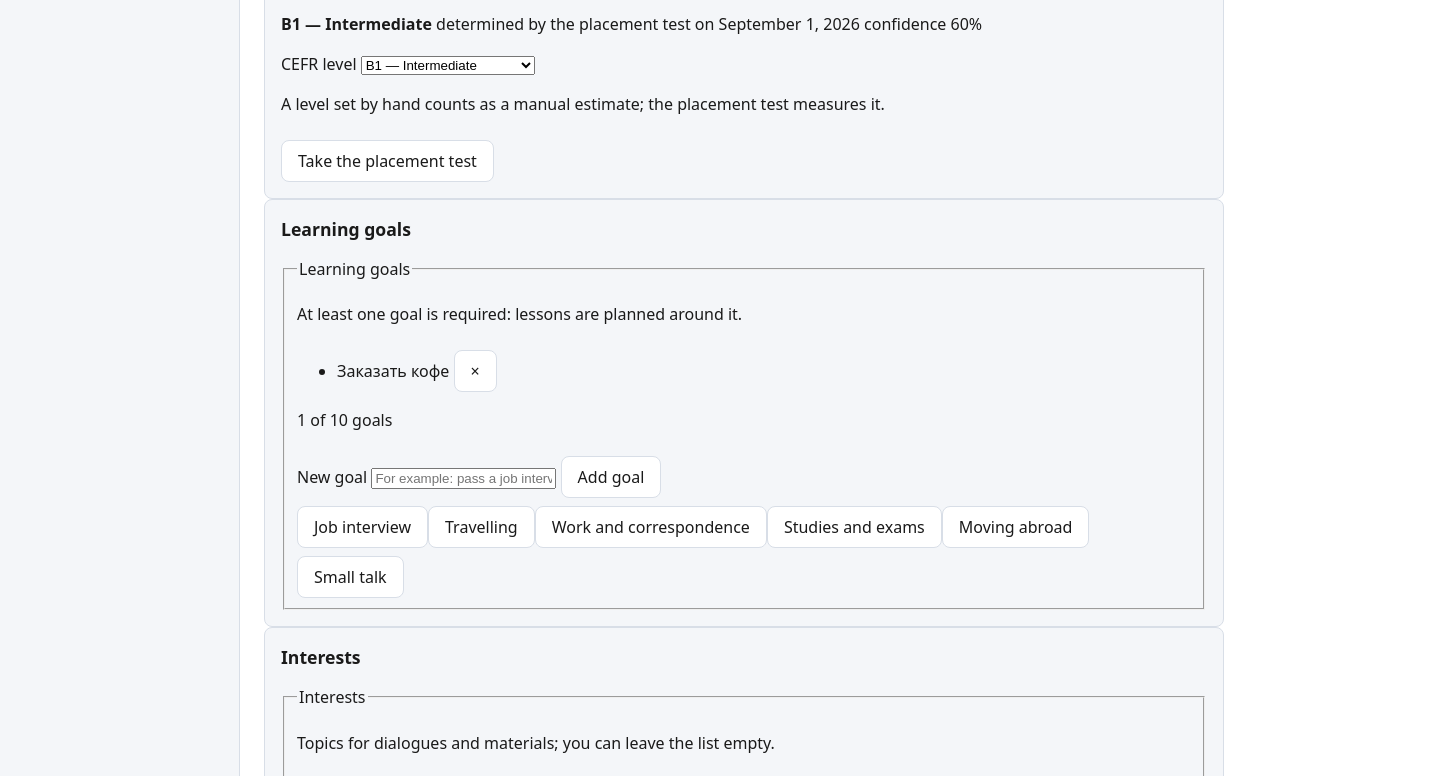
Scenario: сохранение профиля › не отправляет пустой список целей
The width and height of the screenshot is (1440, 776).
(page scrolled)
Click the button "×": (475, 371) left=454, top=350, right=497, bottom=392
(page scrolled)
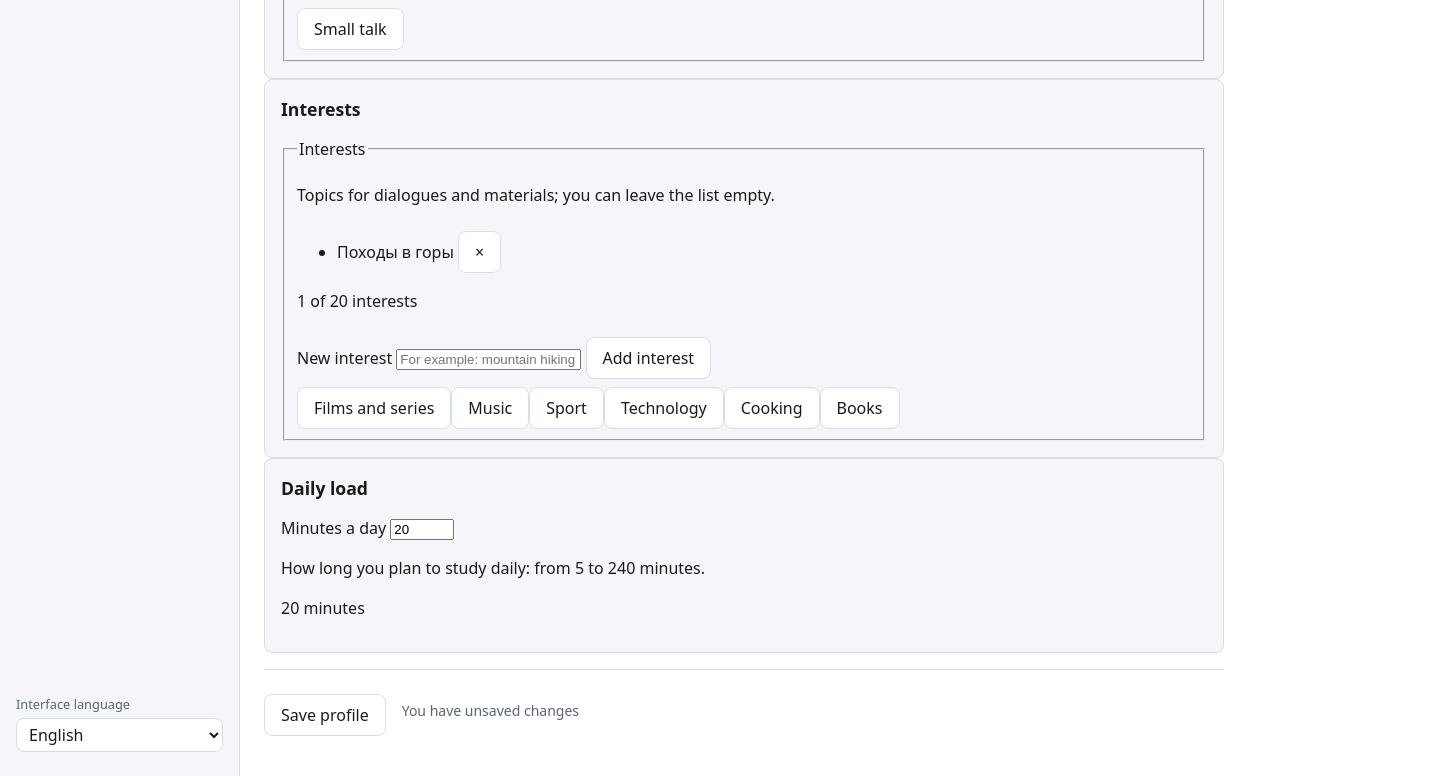
Click the button "Save profile": (325, 715) left=264, top=694, right=386, bottom=736
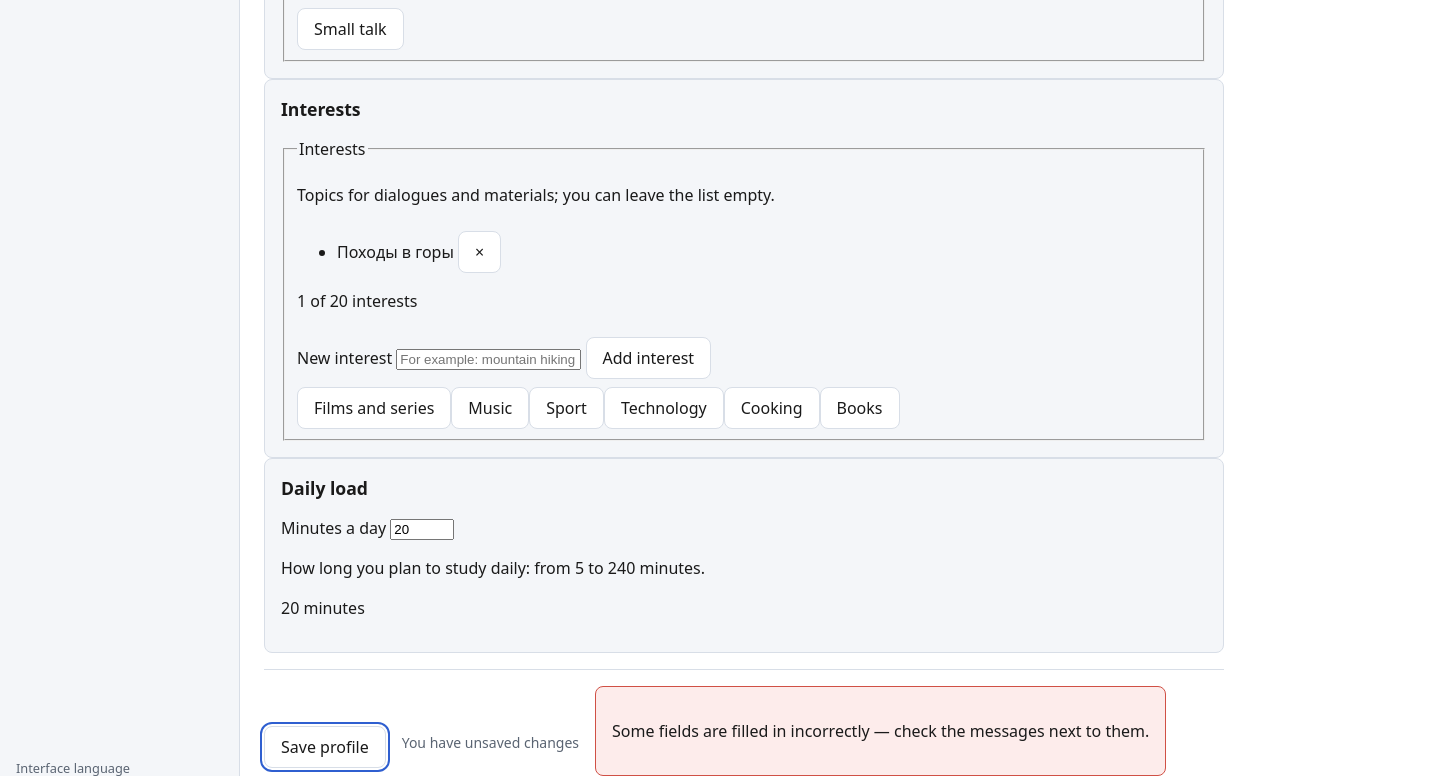
Now the text "Some fields are filled in incorrectly — check the messages next to them." is shown, box left=612, top=719, right=1149, bottom=743
